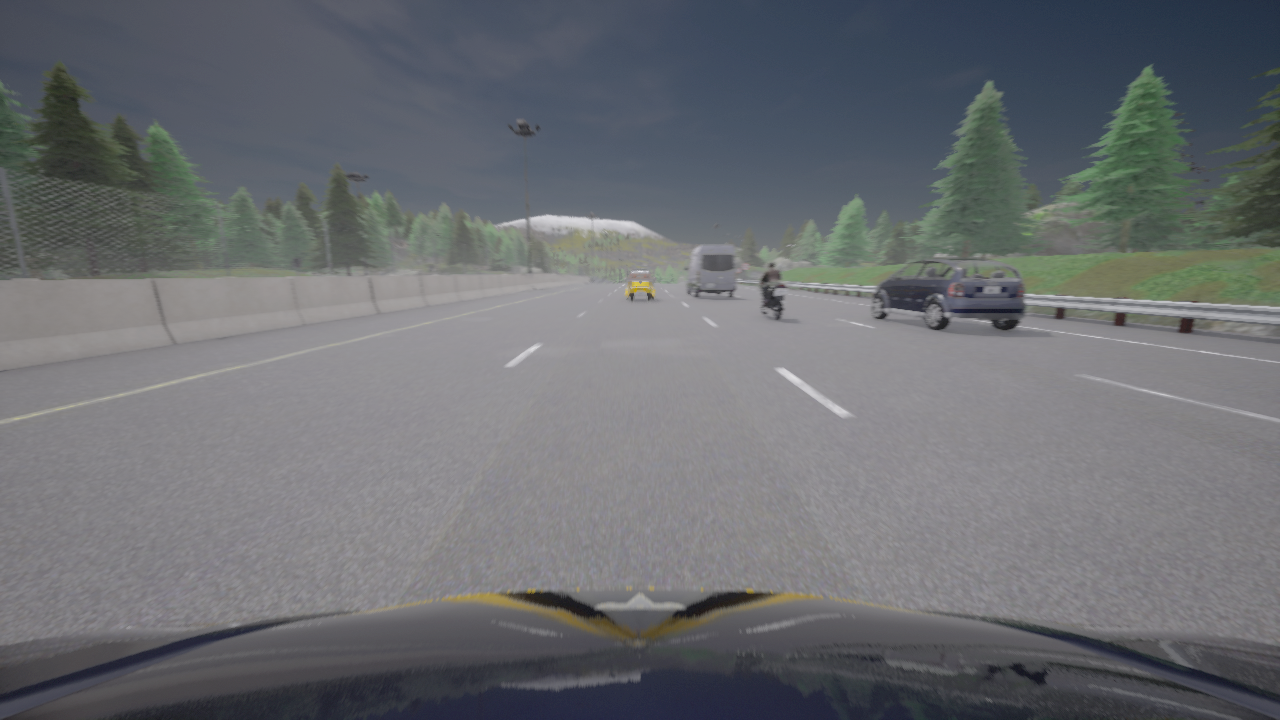cyclist: (0, 588, 1279, 719), (871, 258, 1024, 330), (684, 244, 736, 297), (753, 276, 787, 320), (624, 270, 655, 300)
